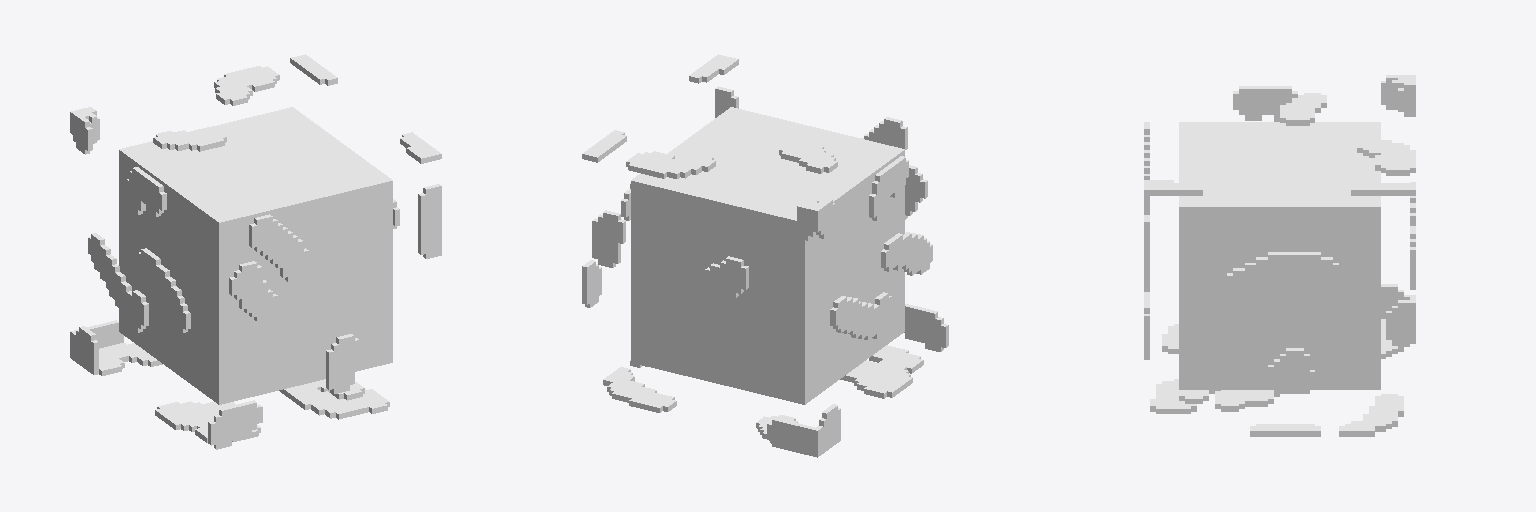
The model's file is planet_little.obj.
3 renders of one model, left to right at view 1: azimuth 30°, elevation 25°; view 2: azimuth 150°, elevation 25°; view 3: azimuth 270°, elevation 25°, orthographic.
Parts seen in each view (by area): view 1: object 1; view 2: object 1; view 3: object 1.
Part boxes in pixels (left/top/right/bottom): object 1: left=70, top=54, right=441, bottom=449; object 1: left=582, top=54, right=948, bottom=457; object 1: left=1144, top=75, right=1415, bottom=436.
Size of the model in its own units: 4.6 by 4.6 by 4.6.